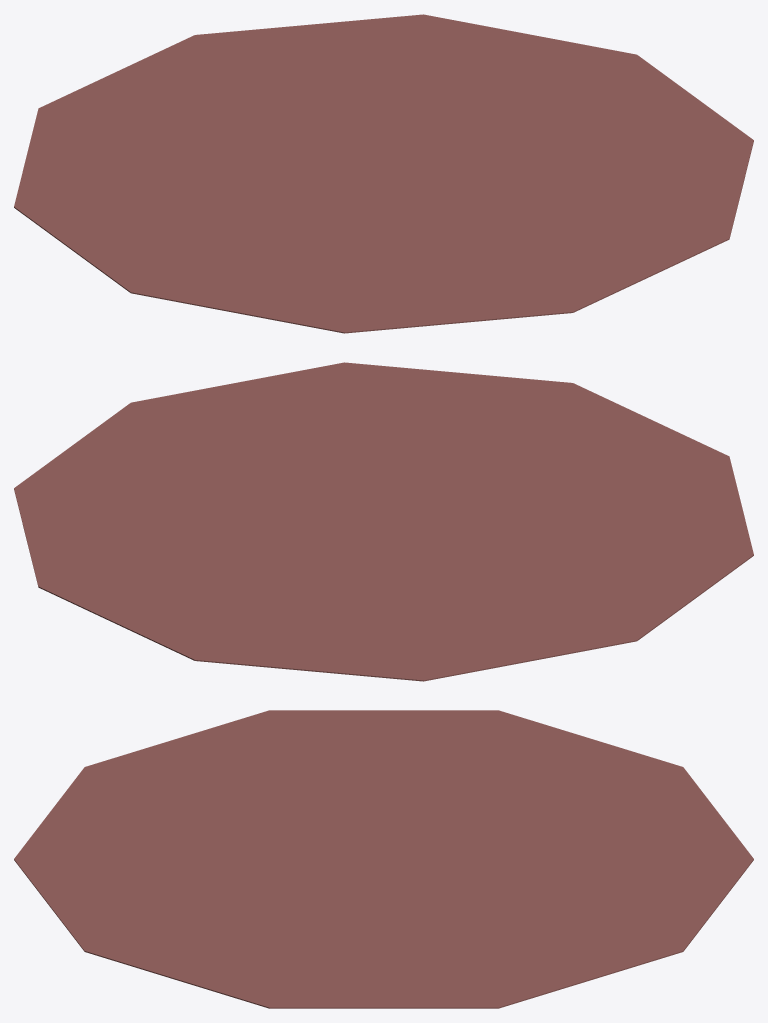
Rendered from shadow.glb.
The picture shows the model from 3 angles, top to bottom: view 1: azimuth 30°, elevation 25°; view 2: azimuth 150°, elevation 25°; view 3: azimuth 270°, elevation 25°; orthographic projection. The views are drawn at different scales.
Visible parts, largest first — view 1: shadow; view 2: shadow; view 3: shadow.
Part boxes in pixels (bbox=[...]): shadow: bbox=[14, 14, 753, 333]; shadow: bbox=[14, 362, 753, 681]; shadow: bbox=[14, 710, 753, 1008].
Size of the model in its own units: 1.9 by 0.00324 by 2.
